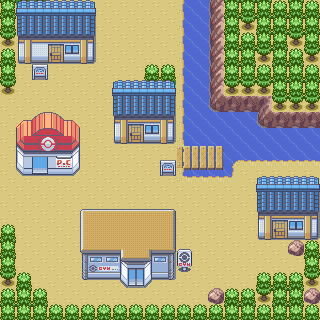gym: (78, 207, 193, 290)
normal_house: (15, 1, 97, 65), (254, 174, 320, 242), (110, 79, 177, 145)
pokemon_center: (14, 111, 82, 177)
